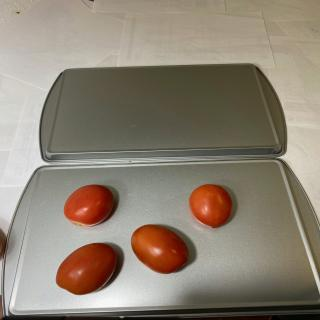Tomato: (56, 242, 117, 296), (131, 224, 189, 274), (63, 184, 114, 227), (188, 184, 232, 228)
